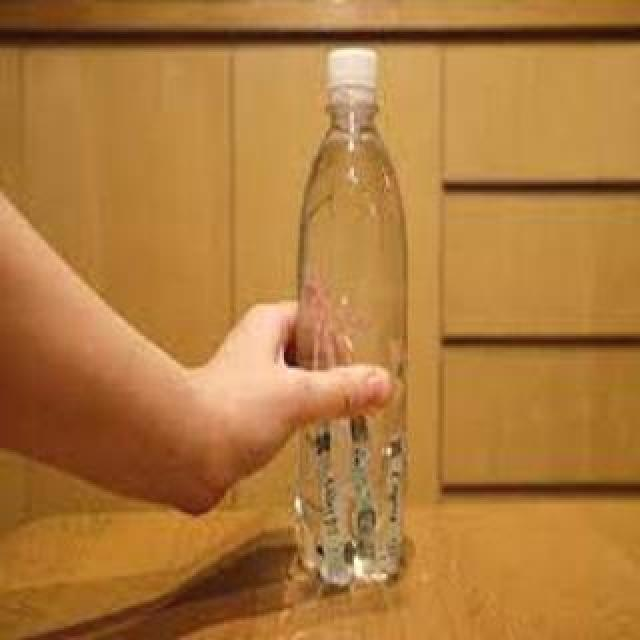Pet_Bottle: (299, 47, 417, 591)
